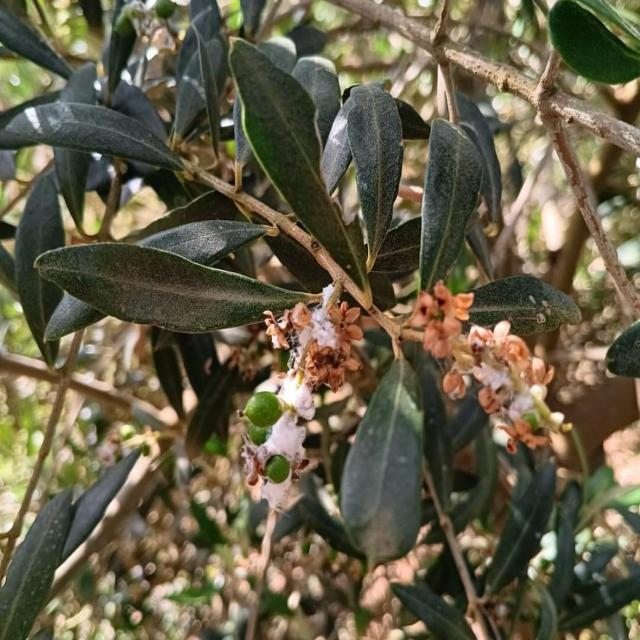Psyllid: (240, 284, 362, 514), (423, 294, 573, 455)
